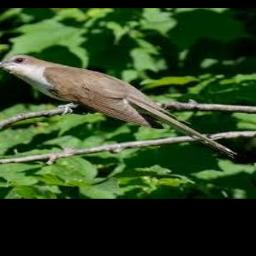Cuckoo: (0, 54, 238, 159)
